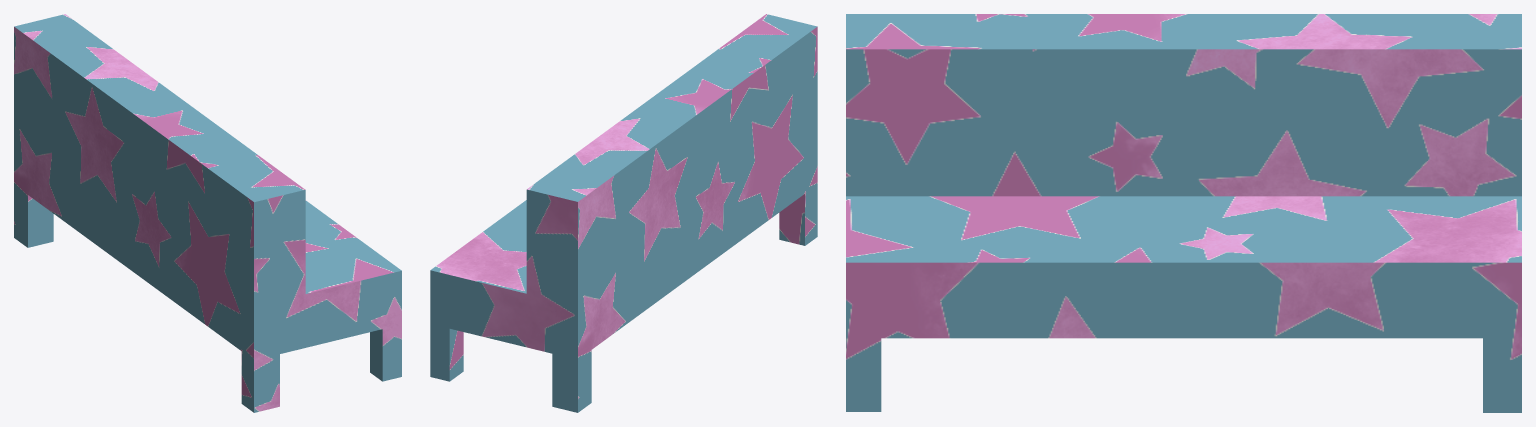
Rendered from bench.glb.
The picture shows the model from 3 angles, left to right: view 1: azimuth 30°, elevation 25°; view 2: azimuth 150°, elevation 25°; view 3: azimuth 270°, elevation 25°; orthographic projection. The views are drawn at different scales.
Visible parts, largest first — view 1: Cube; view 2: Cube; view 3: Cube.
Boxes of the visible parts, x1,y1,x2,y2 form: Cube: (14,14,401,412); Cube: (430,14,817,412); Cube: (846,14,1521,412).
Size of the model in its own units: 5.75 by 7.86 by 16.19.
1 material, 1 textured.
